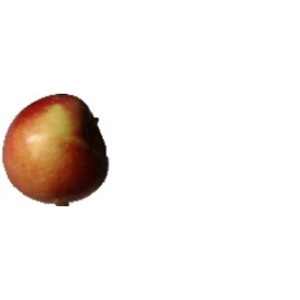maçã braeburn: (2, 91, 109, 205)
